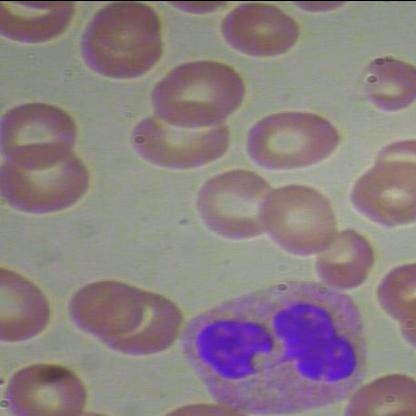RBC: (148, 54, 252, 128), (128, 102, 232, 176), (0, 140, 94, 218), (190, 165, 280, 242), (252, 180, 341, 257), (242, 105, 342, 171), (0, 100, 88, 172), (212, 0, 306, 58), (0, 360, 92, 416), (63, 276, 143, 336), (87, 1, 169, 59), (312, 223, 376, 292), (347, 53, 415, 110)
WBC: (172, 258, 380, 416)
